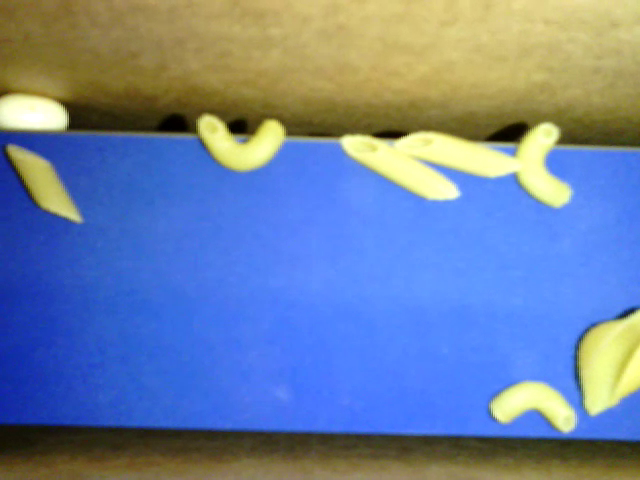elbow: (196, 112, 285, 172), (489, 379, 580, 433), (516, 121, 571, 207)
penne: (339, 134, 461, 200), (389, 129, 525, 180), (7, 145, 83, 224)
shell: (575, 307, 639, 418)
